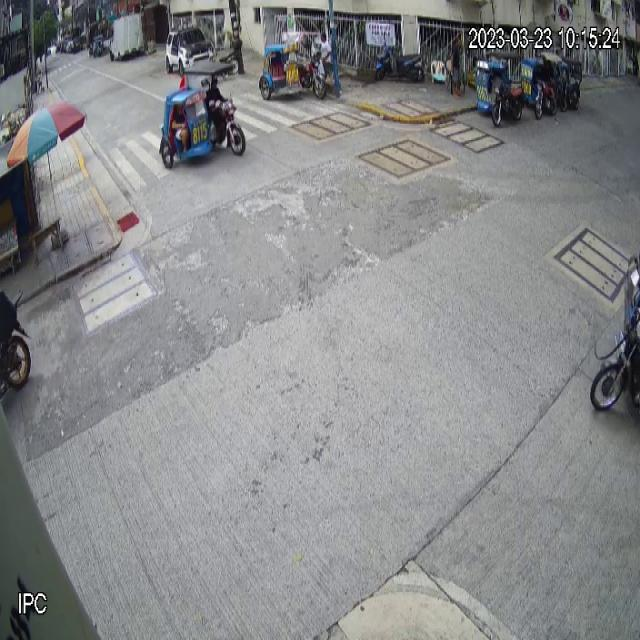Tricycle: (159, 59, 246, 169), (258, 30, 328, 100), (474, 50, 526, 126)
